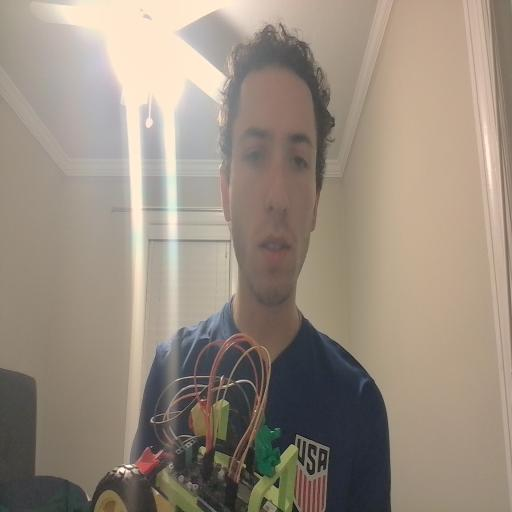green LEGO minifig: (252, 406, 284, 481)
